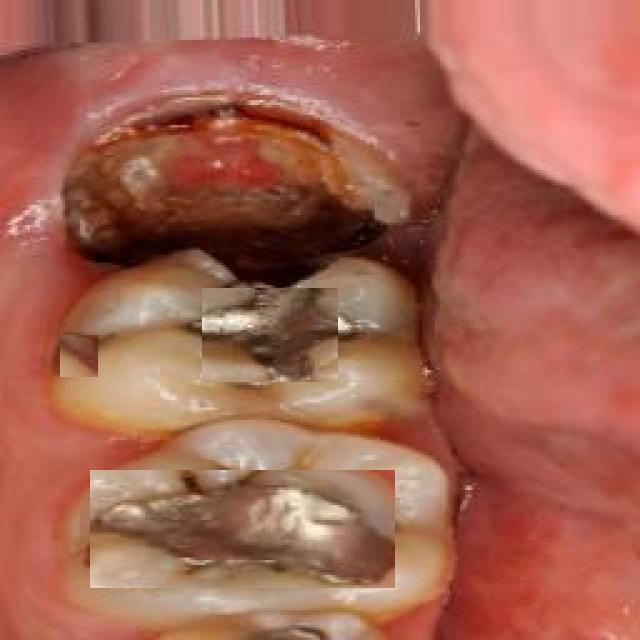decay: (90, 470, 395, 588), (78, 143, 383, 258), (202, 288, 338, 382), (217, 625, 325, 640), (60, 335, 98, 377)
